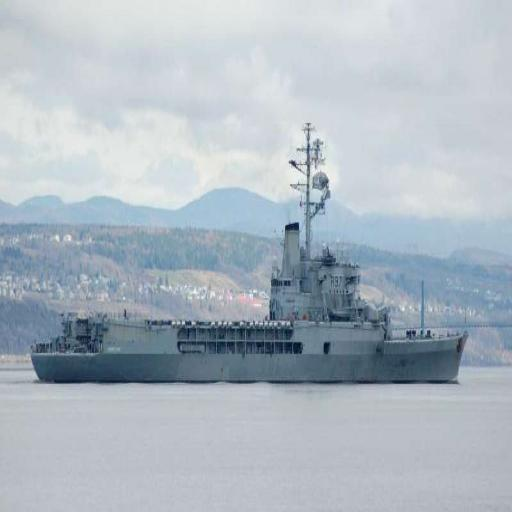Portanaves: (28, 108, 470, 386)
